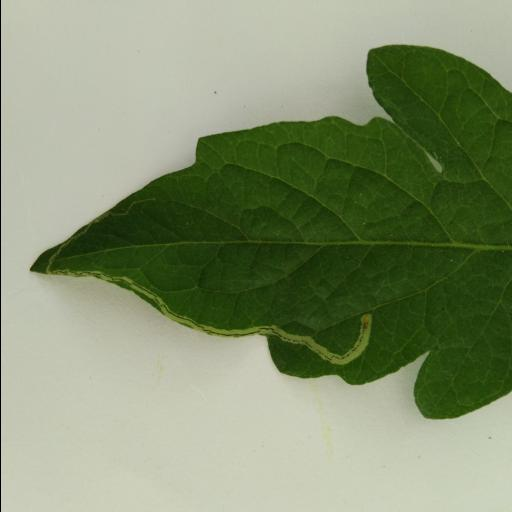disease_tomato: (23, 42, 512, 418)
